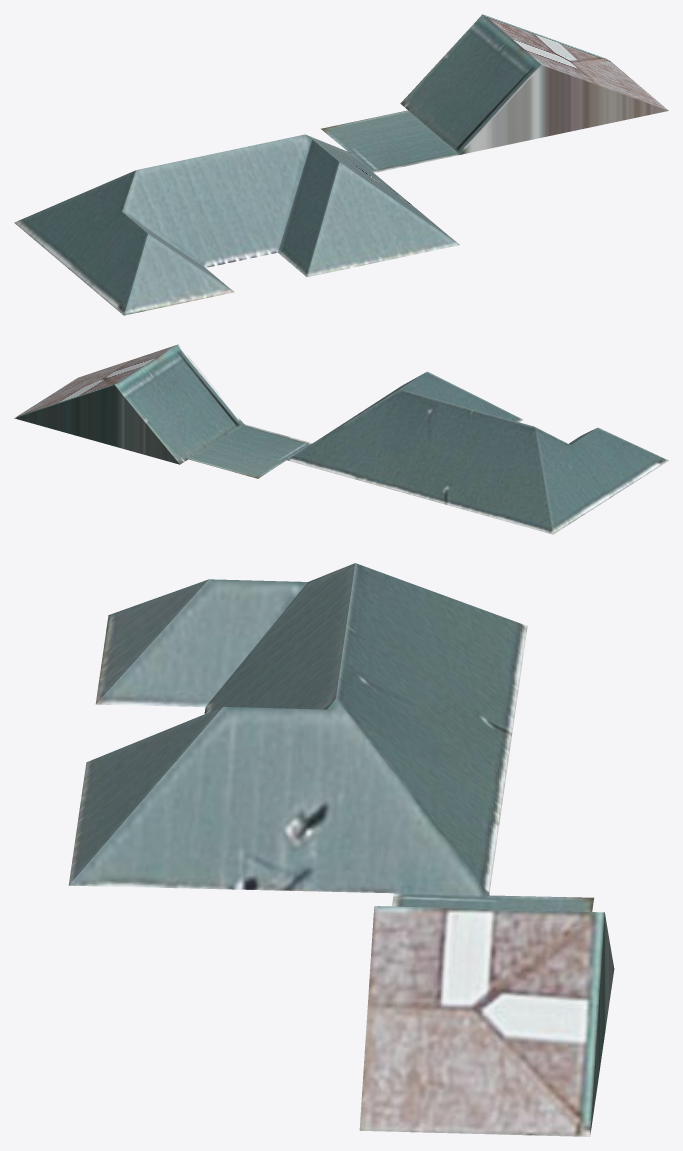
The model's file is CG10_500_038069_0013_roof.obj.
3 views of the same model, one above another, from view 1: azimuth 30°, elevation 25°; view 2: azimuth 150°, elevation 25°; view 3: azimuth 270°, elevation 25° (orthographic). The views are drawn at different scales.
Parts seen in each view (by area): view 1: CG10_500_038069_0013_roof; view 2: CG10_500_038069_0013_roof; view 3: CG10_500_038069_0013_roof.
Part boxes in pixels (x1,y1,x2,y2): CG10_500_038069_0013_roof: (14,14,668,315); CG10_500_038069_0013_roof: (14,344,668,534); CG10_500_038069_0013_roof: (68,563,614,1136).
Bounding box in the file's own units: 637 × 70.04 × 282.
Materials: 1 (1 with a texture image).
